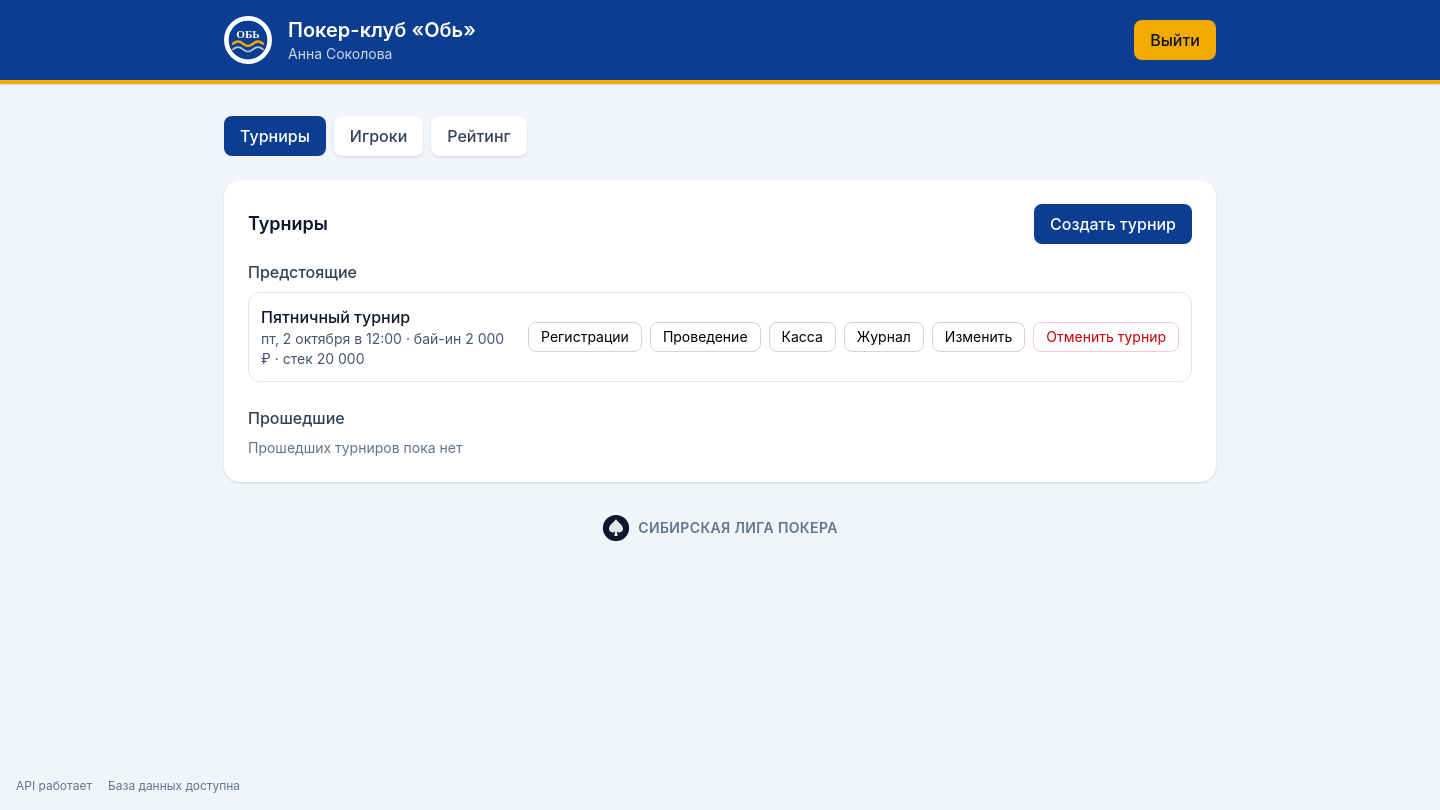
Test: tournament registrations › registers a club player found by name
This screenshot has width=1440, height=810.
Click the button "Регистрации".
click(585, 337)  # box top-left (528, 322), bottom-right (642, 352)
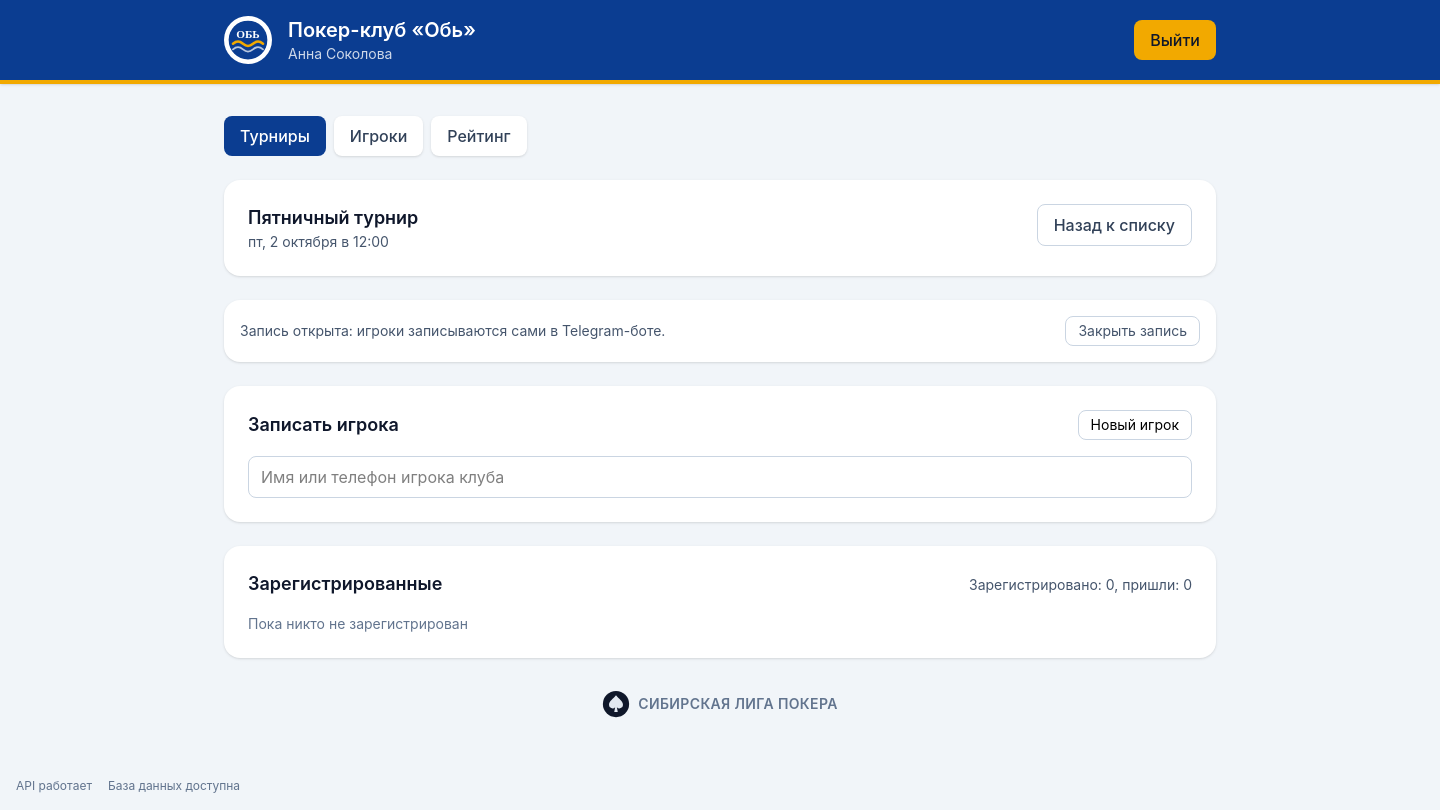
Now the heading "Пятничный турнир" is shown, box top-left (248, 204), bottom-right (418, 232)
Now the text "Пока никто не зарегистрирован" is shown, box top-left (248, 615), bottom-right (468, 632)
Type "Мария" into the search field named "Найти игрока клуба".
click(720, 477); type("Мария")  # box top-left (248, 456), bottom-right (1192, 498)
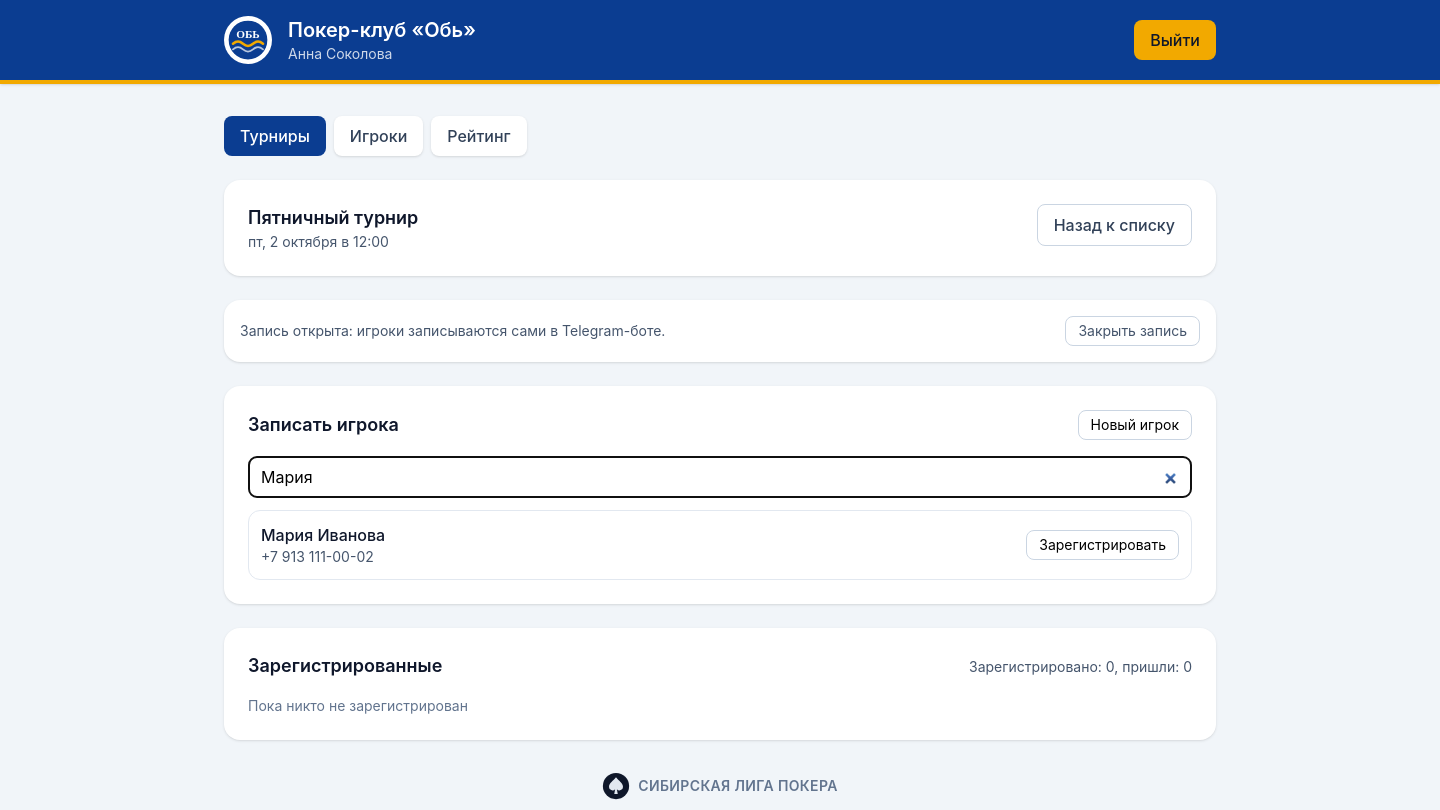
Click the button "Зарегистрировать".
click(1103, 545)  # box top-left (1026, 530), bottom-right (1179, 560)
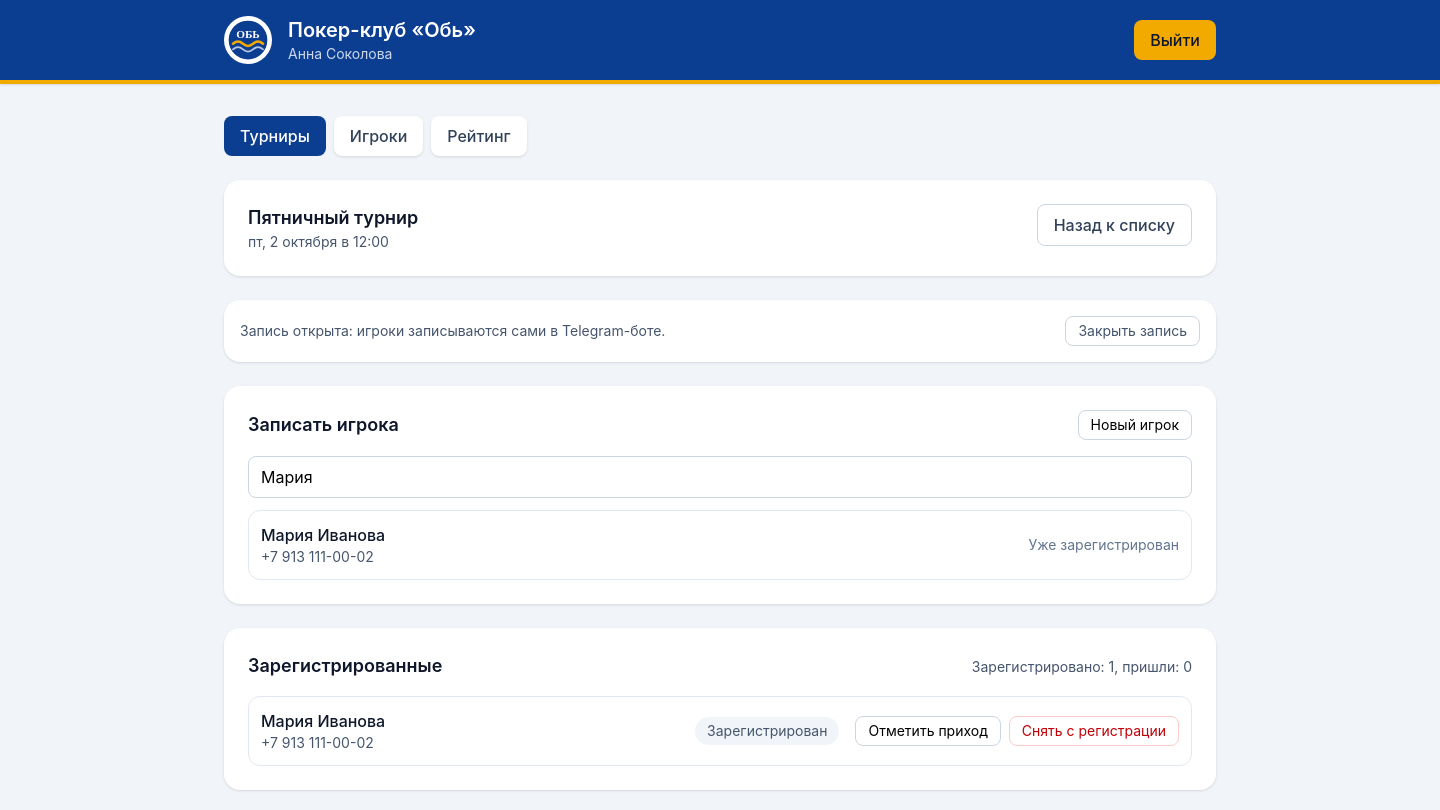
Expected: the button "Создать турнир" is not shown
Now the list item "Мария Иванова" shows "Зарегистрирован", box top-left (707, 722), bottom-right (828, 739)
Now the text "Зарегистрировано: 1, пришли: 0" is shown, box top-left (972, 657), bottom-right (1192, 677)
